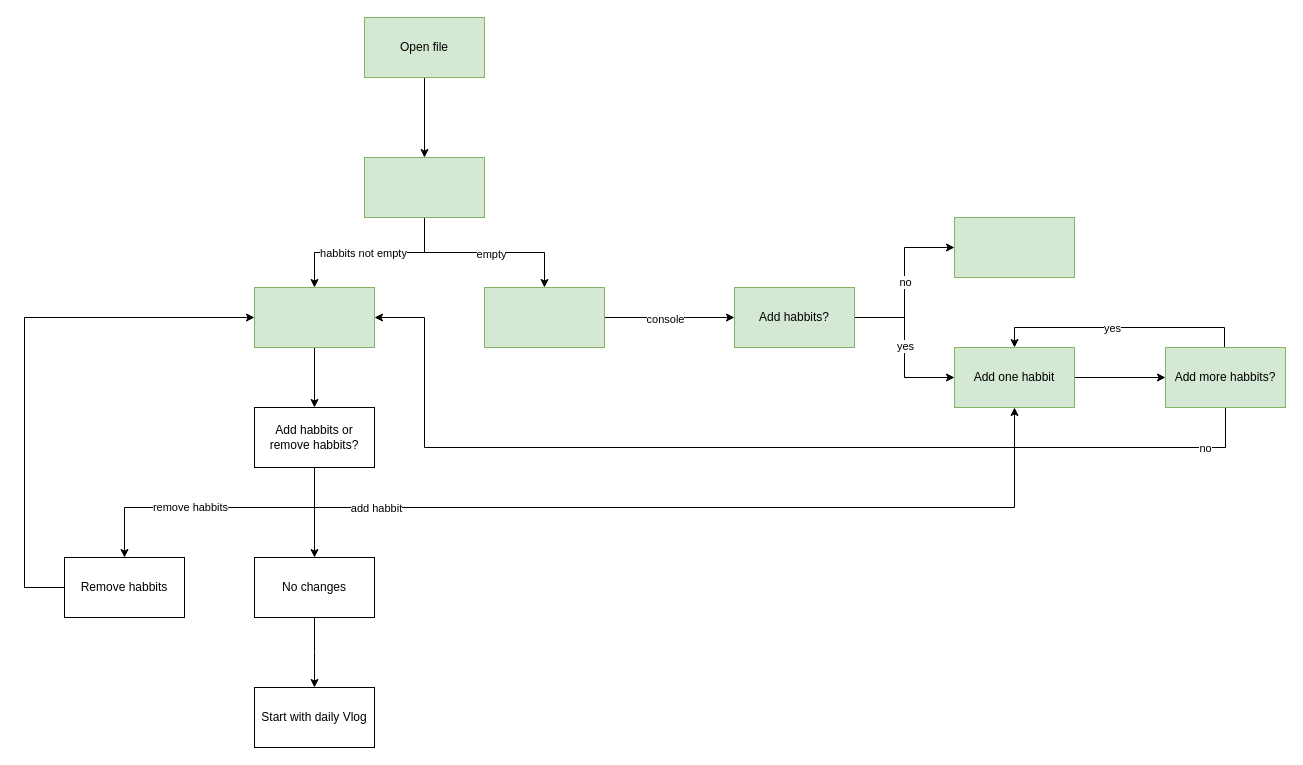
This 1303x765 diagram has some shape labels left out. Each missing label, with the centre of its shape:
Exit program: point 1014,247
Extract "current habbits": point 424,187
No Habbits: point 544,317
Print Habbits: point 314,317
